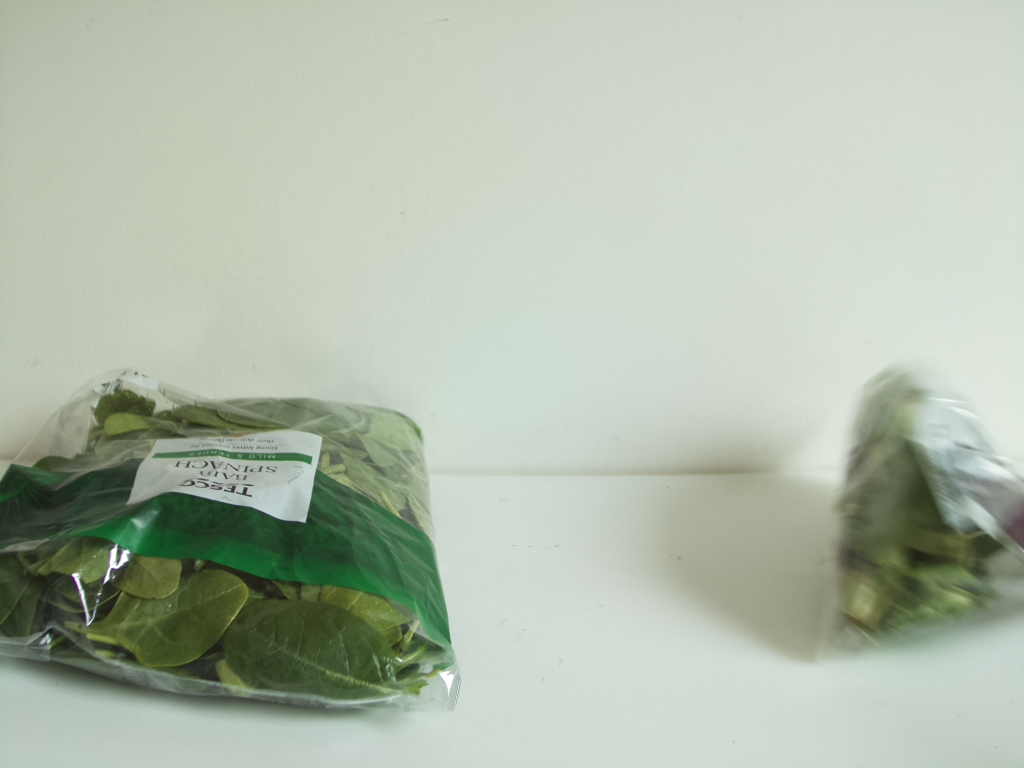salad: (1, 368, 459, 710), (829, 356, 1024, 645)
